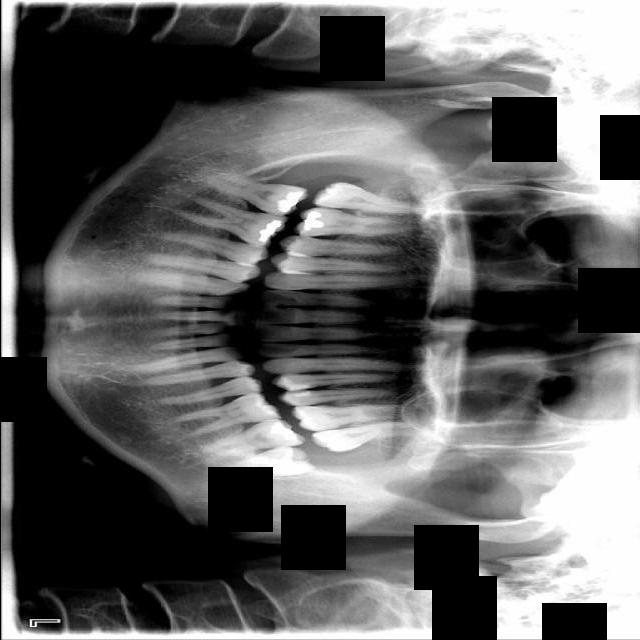52: (238, 200, 291, 255), (247, 414, 305, 453), (250, 182, 309, 217), (298, 207, 338, 238)
73: (46, 594, 55, 600)
BioHorizons Implant: (309, 415, 425, 457)
Biomet 3i Implant: (223, 439, 315, 490)
Blue Sky Bio Implant: (200, 414, 307, 462)
Caries: (313, 180, 435, 220)
Implant: (197, 166, 312, 222)
